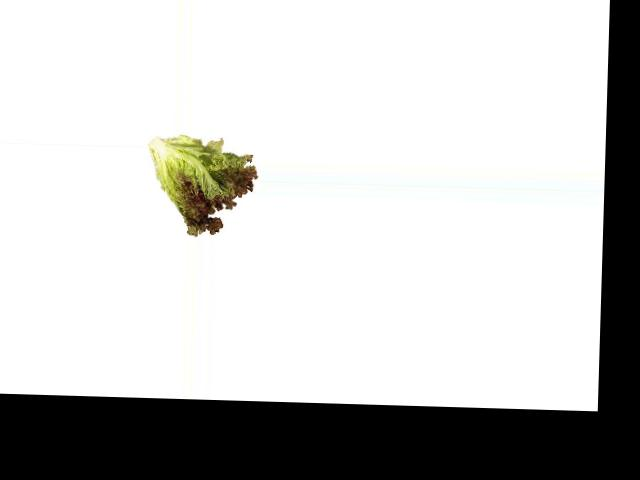lettuce: (147, 135, 259, 236)
